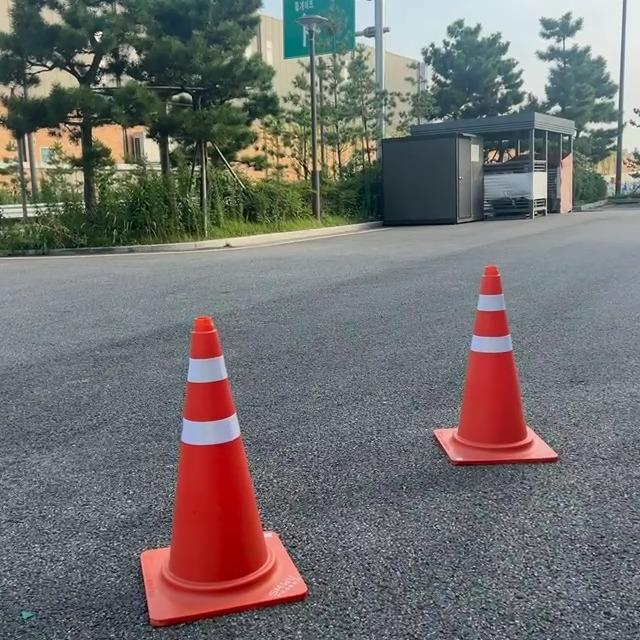fallen_object: (136, 290, 325, 640), (389, 259, 554, 453)
